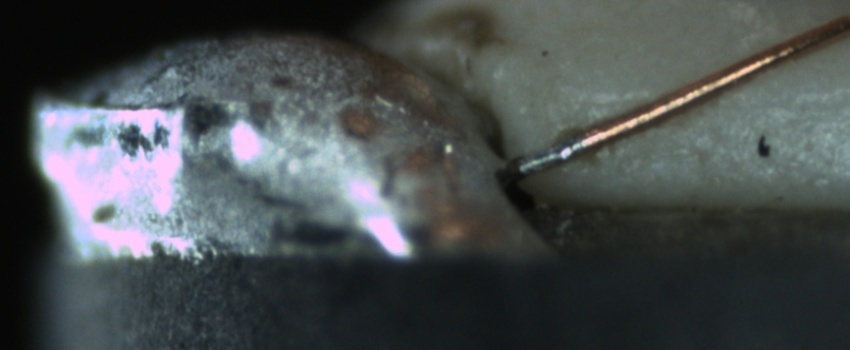DL: (572, 68, 845, 134)
TS: (512, 136, 587, 180)
